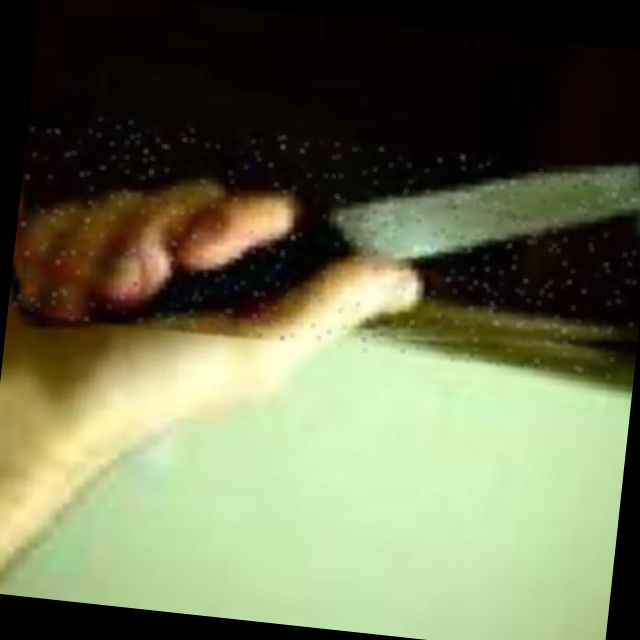Sharp-Object: (11, 110, 640, 380)
